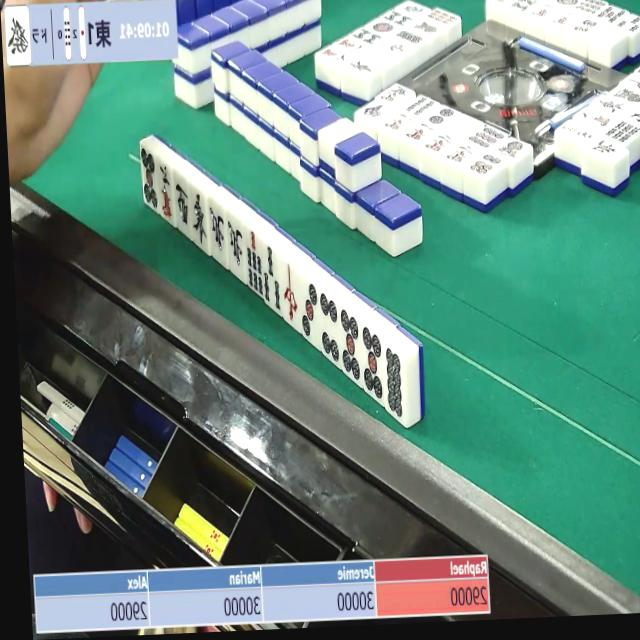east: (189, 188, 207, 252)
fa: (3, 8, 29, 65)
m7: (156, 160, 173, 223)
north: (227, 217, 245, 281), (209, 202, 227, 266)
s3: (261, 242, 279, 314)
s7: (245, 230, 265, 302)
t3: (298, 279, 319, 345)
t4: (318, 291, 342, 365)
t5: (360, 326, 385, 404), (338, 308, 361, 385), (141, 145, 159, 212)
t8: (381, 346, 405, 423)
west: (174, 178, 191, 234)
zhong: (281, 261, 300, 330)
